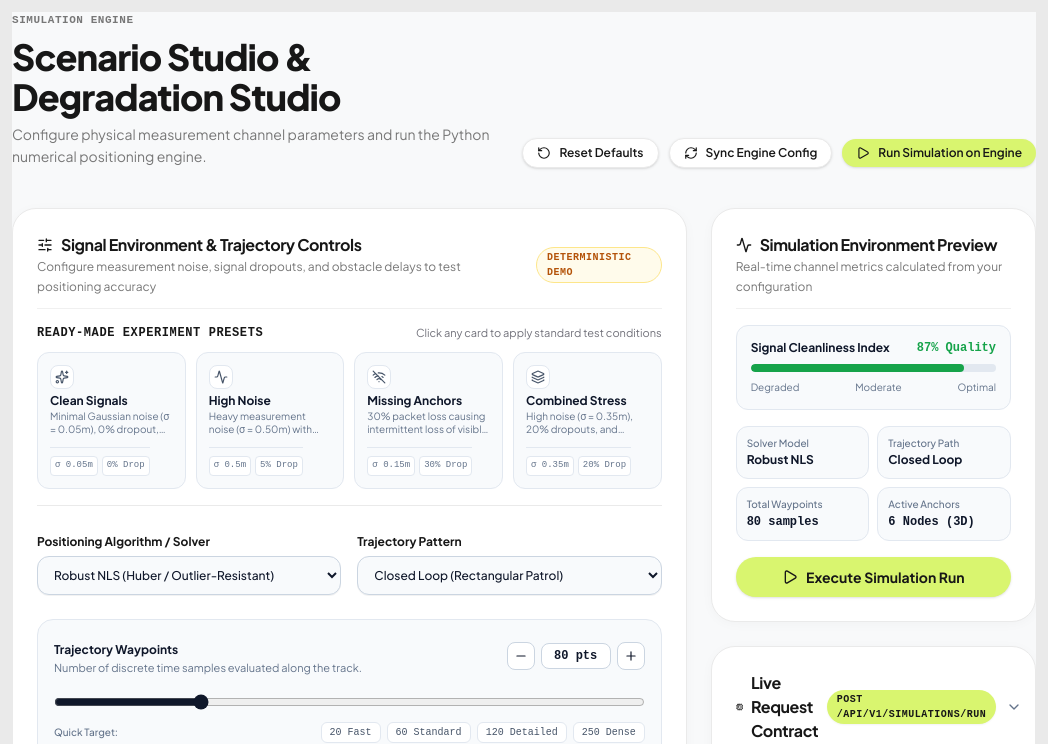
Test: Phase 5 Frontend–Backend Integration & UI State › Scenario Studio Real Execution & State Controls › displays error notice on backend failure and offers demo fallback
Step 1. Click the button "Run Simulation on Engine" → coordinates (939, 153), box [842,139,1036,167]
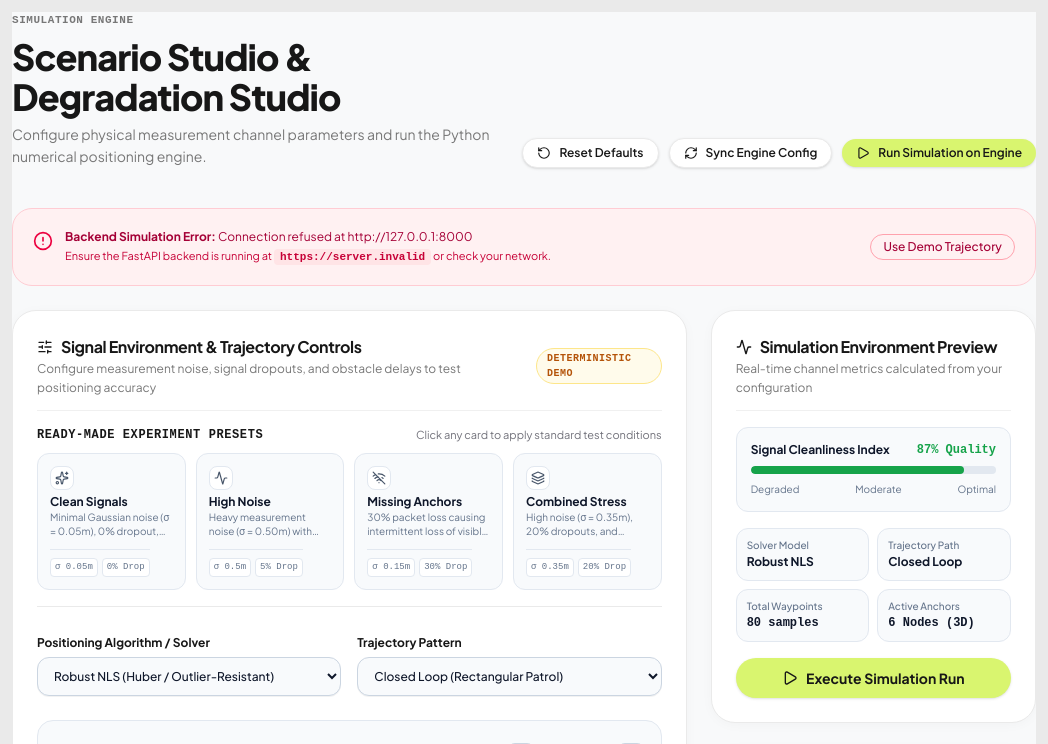
Result: the text "Backend Simulation Error:" is shown at [65,229,216,244]
Result: the text "Use Demo Trajectory" is shown at [884,239,1002,255]
